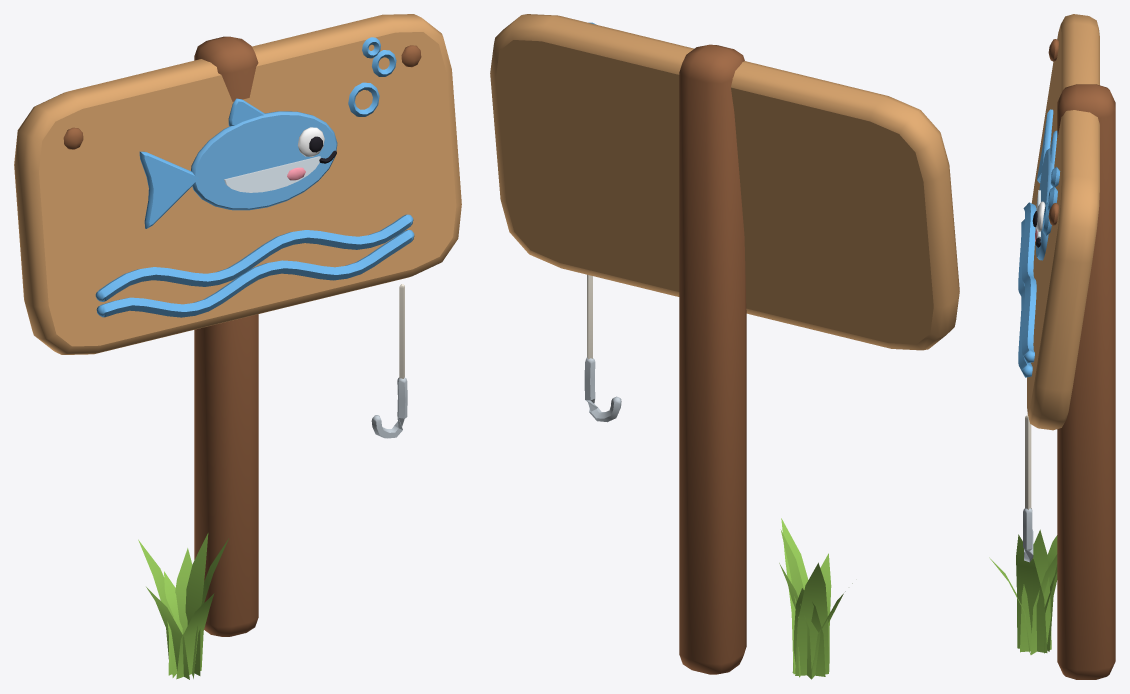
Rendered from prop_fishing_sign.glb.
3 views of the same model, side by side, from view 1: azimuth 30°, elevation 25°; view 2: azimuth 150°, elevation 25°; view 3: azimuth 270°, elevation 25° (orthographic). The views are drawn at different scales.
Visible parts, largest first — view 1: prop_fishing_sign; view 2: prop_fishing_sign; view 3: prop_fishing_sign.
Boxes of the visible parts, box(x1,y1,x2,y2) form: prop_fishing_sign: box(14, 14, 461, 679); prop_fishing_sign: box(490, 14, 959, 679); prop_fishing_sign: box(989, 14, 1115, 679).
Size of the model in its own units: 0.76 by 1.01 by 0.1964.
